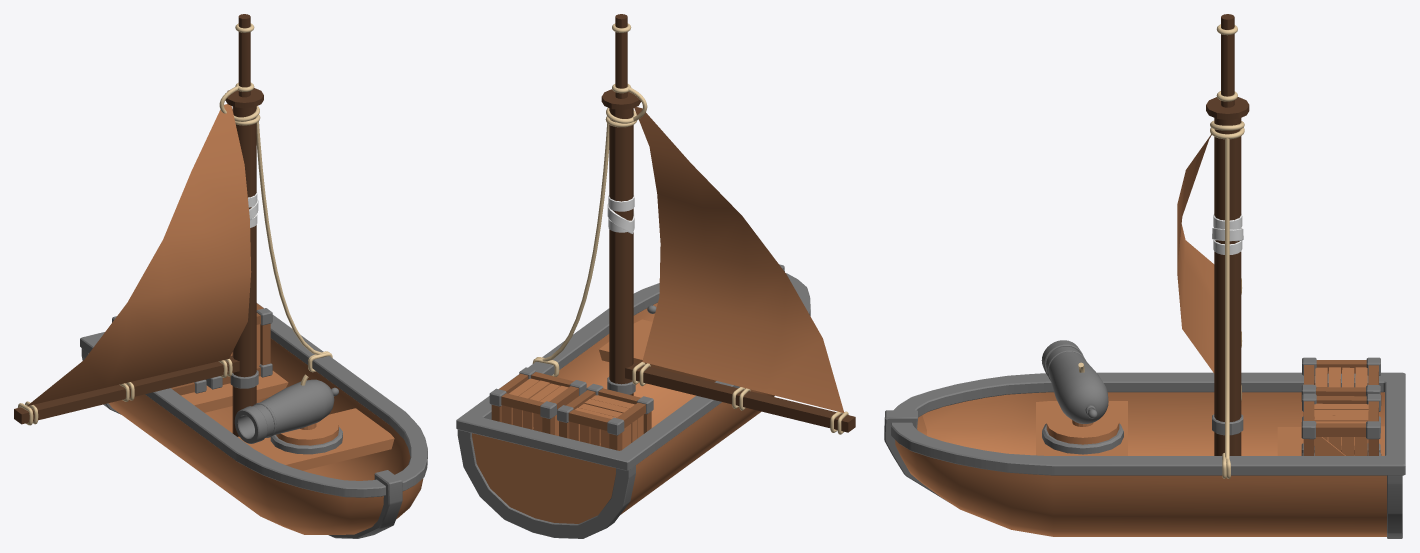
File: Barca.fbx
The picture shows the model from 3 angles, left to right: view 1: azimuth 30°, elevation 25°; view 2: azimuth 150°, elevation 25°; view 3: azimuth 270°, elevation 25°; orthographic projection. The views are drawn at different scales.
Visible parts, largest first — view 1: Cube.111; view 2: Cube.111; view 3: Cube.111.
Part boxes in pixels (left/top/right/bottom): Cube.111: left=14, top=14, right=427, bottom=538; Cube.111: left=456, top=14, right=855, bottom=538; Cube.111: left=884, top=14, right=1405, bottom=538.
Bounding box in the file's own units: 219 × 303 × 281.
